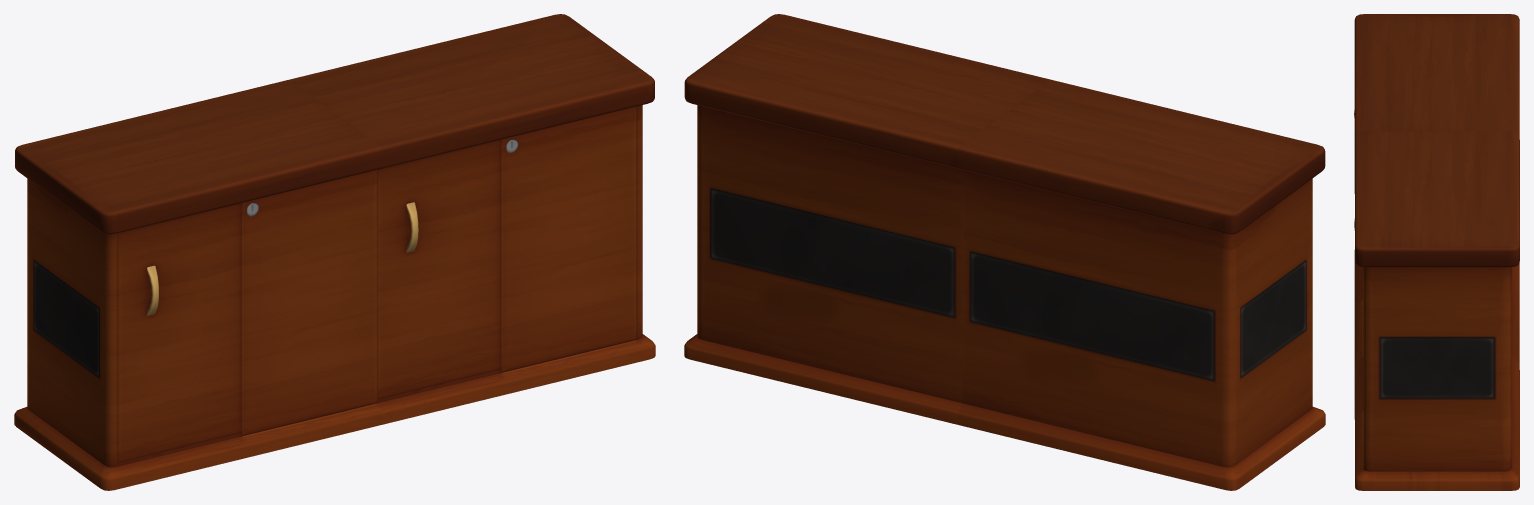
The model's file is OfficeDesk02_4.FBX.
3 renders of one model, left to right at view 1: azimuth 30°, elevation 25°; view 2: azimuth 150°, elevation 25°; view 3: azimuth 270°, elevation 25°, orthographic. The views are drawn at different scales.
Visible parts, largest first — view 1: OfficeDesk02_4; view 2: OfficeDesk02_4; view 3: OfficeDesk02_4.
Boxes of the visible parts, left/top/right/bottom form: OfficeDesk02_4: left=14, top=14, right=655, bottom=490; OfficeDesk02_4: left=684, top=14, right=1325, bottom=490; OfficeDesk02_4: left=1354, top=14, right=1519, bottom=490.
Size of what is drawn, in the model's own units: 1.88 by 0.9 by 0.5593.
